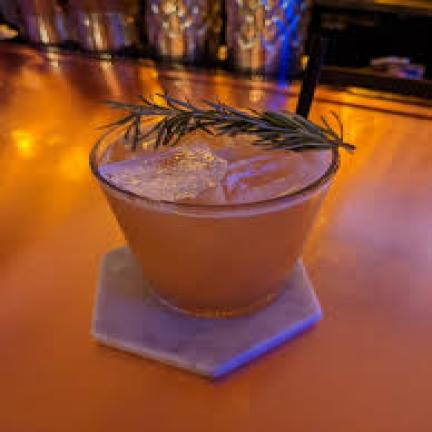container: (91, 108, 334, 310)
fluid: (105, 186, 325, 310)
fluid-surface: (100, 124, 325, 207)
